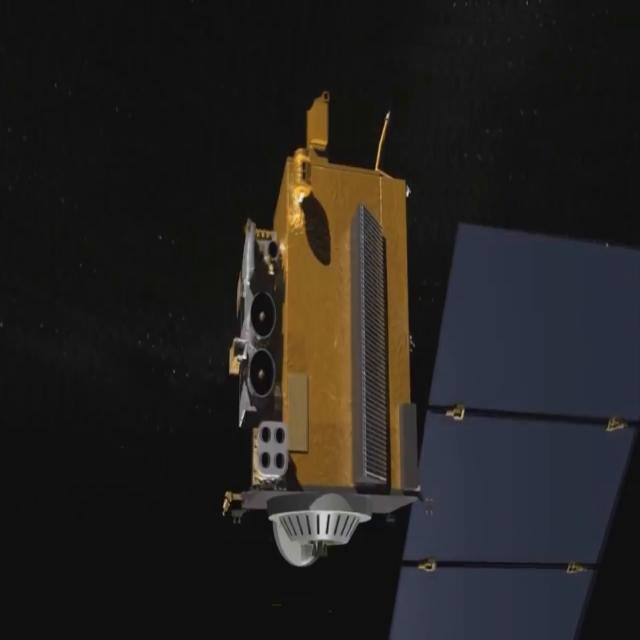satellite: (200, 0, 640, 640)
